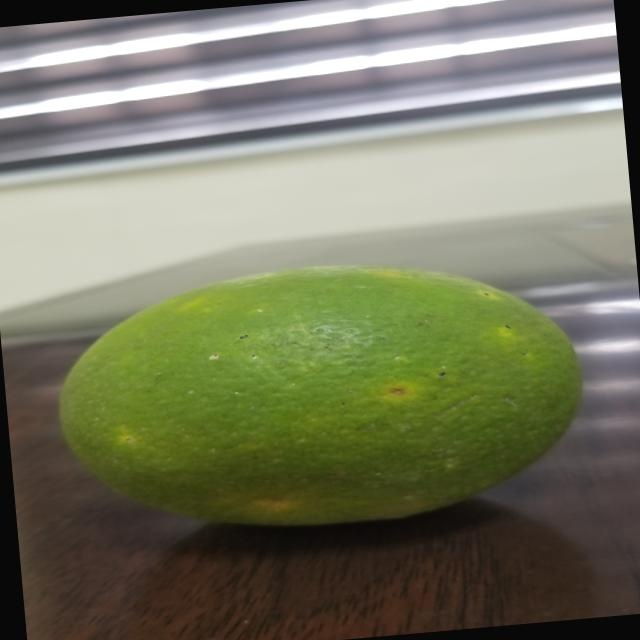agrume: (51, 228, 593, 556)
